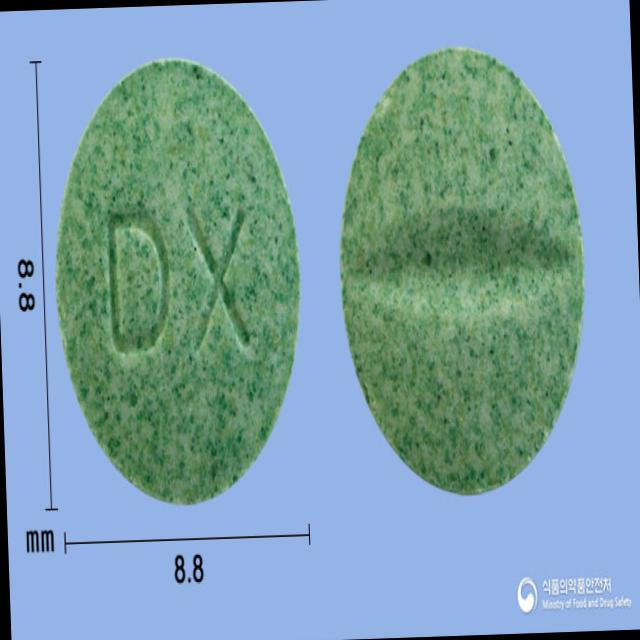Doxymycin N: (49, 52, 308, 509)
